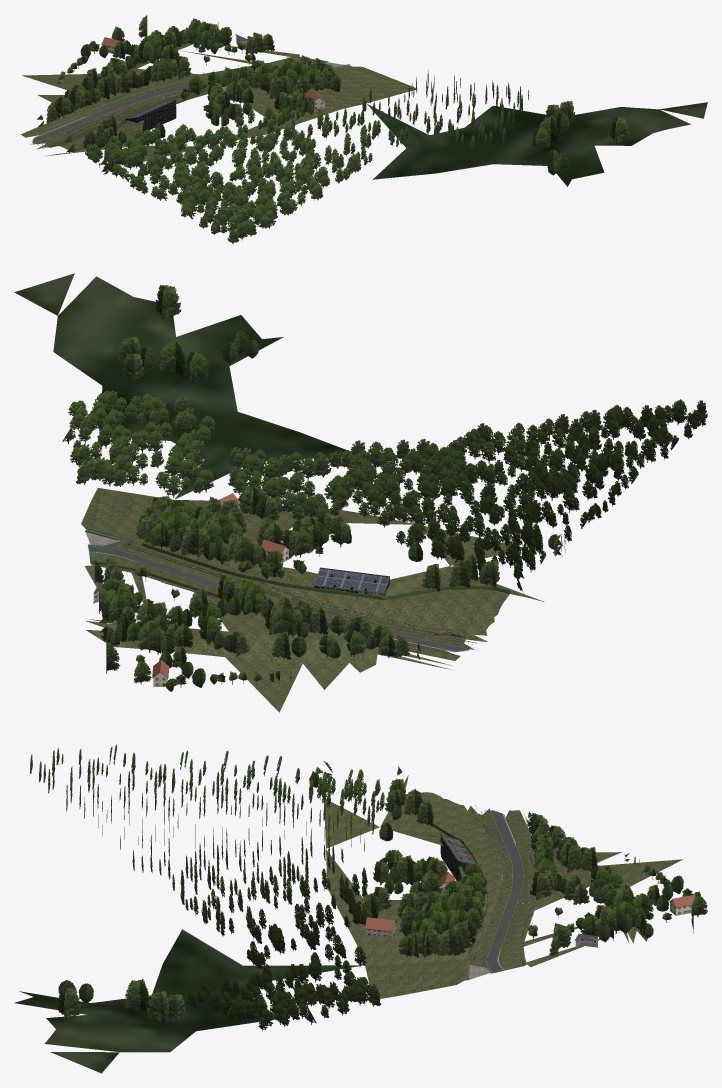
The picture shows the model from 3 angles, top to bottom: view 1: azimuth 30°, elevation 25°; view 2: azimuth 150°, elevation 25°; view 3: azimuth 270°, elevation 25°; orthographic projection. The views are drawn at different scales.
Visible parts, largest first — view 1: tile_t04; view 2: tile_t04; view 3: tile_t04.
Boxes of the visible parts, x1=… form: tile_t04: x1=21, y1=15, x2=707, y2=243; tile_t04: x1=14, y1=273, x2=707, y2=712; tile_t04: x1=15, y1=745, x2=707, y2=1073.
Size of the model in its own units: 695 by 77.35 by 640.
Materials: 33 (33 with a texture image).
